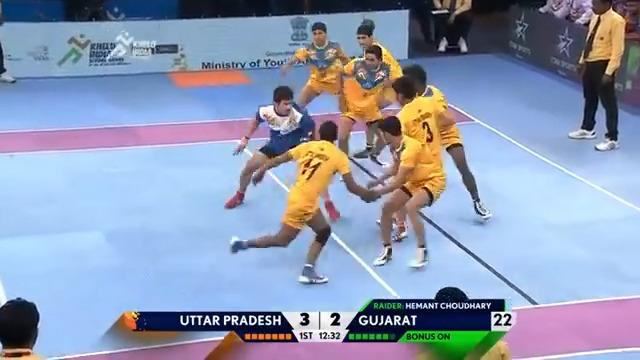Player: (228, 119, 401, 288), (367, 75, 453, 271), (393, 62, 493, 223), (283, 31, 351, 91), (357, 26, 402, 73)
Raider: (222, 83, 318, 210)
referee: (567, 0, 626, 151), (0, 0, 17, 83)
